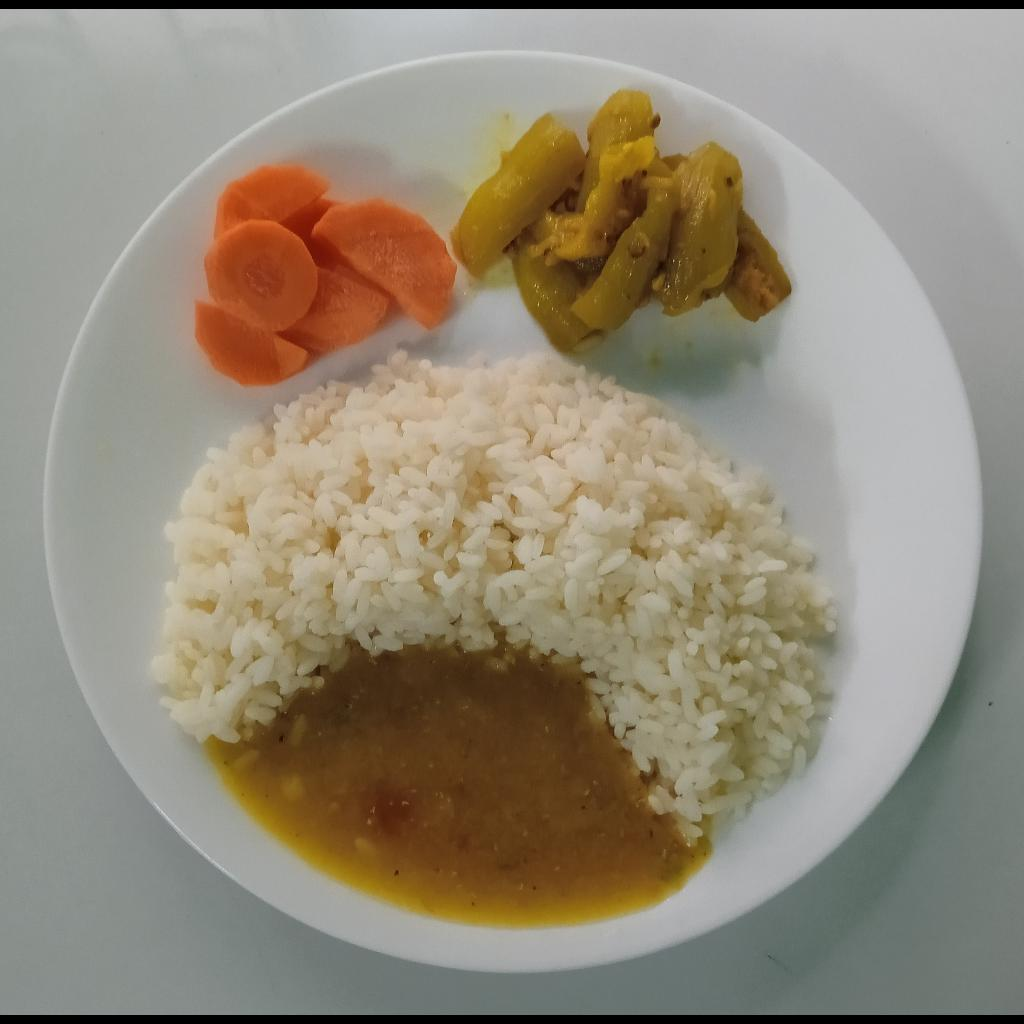carrot: (194, 163, 462, 385)
daal: (213, 651, 708, 925)
potol: (452, 88, 791, 350)
rice: (151, 350, 843, 843)
